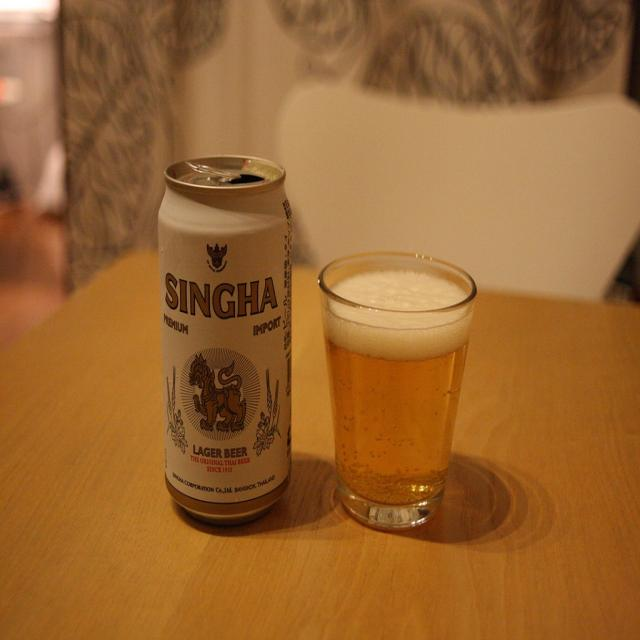singha: (161, 266, 285, 477)
